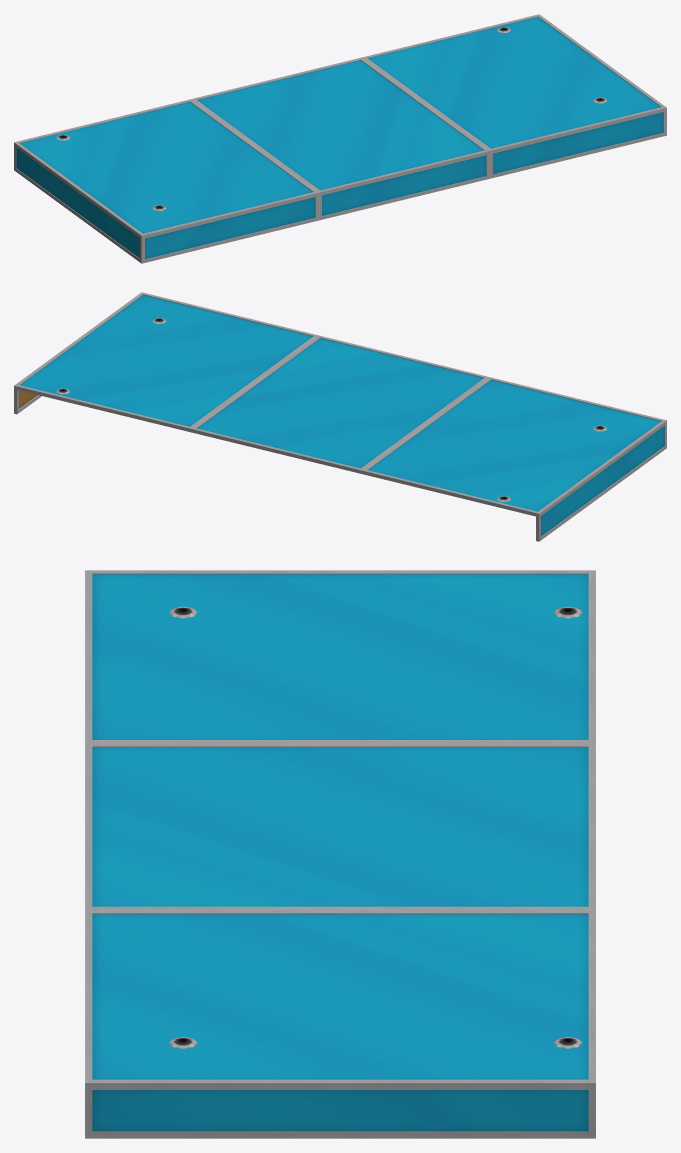
Rendered from jsf_4P_s02_c02_t01_DX.fbx.
3 renders of one model, top to bottom at view 1: azimuth 30°, elevation 25°; view 2: azimuth 150°, elevation 25°; view 3: azimuth 270°, elevation 25°, orthographic. The views are drawn at different scales.
Parts seen in each view (by area): view 1: jsf_4P_s02_c02_t01_DX; view 2: jsf_4P_s02_c02_t01_DX; view 3: jsf_4P_s02_c02_t01_DX.
Boxes of the visible parts, left/top/right/bottom form: jsf_4P_s02_c02_t01_DX: left=14, top=14, right=666, bottom=263; jsf_4P_s02_c02_t01_DX: left=14, top=292, right=666, bottom=541; jsf_4P_s02_c02_t01_DX: left=85, top=570, right=595, bottom=1138.
Bounding box in the file's own units: 246 × 12.99 × 104.
